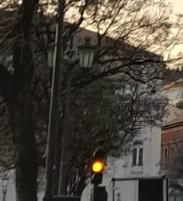yellow_light: (91, 148, 105, 183)
